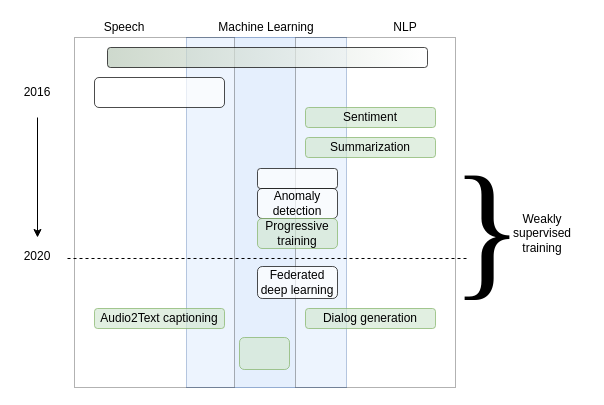
This 604x405 diagram has some shape labels left out. Each missing label, with the centre of its shape:
Confidence for Text2Speech alignment: (159,92)
Dialog Acts: (267,57)
DL for Indus4.0: (264,353)
Unsup. risk: (297,178)
